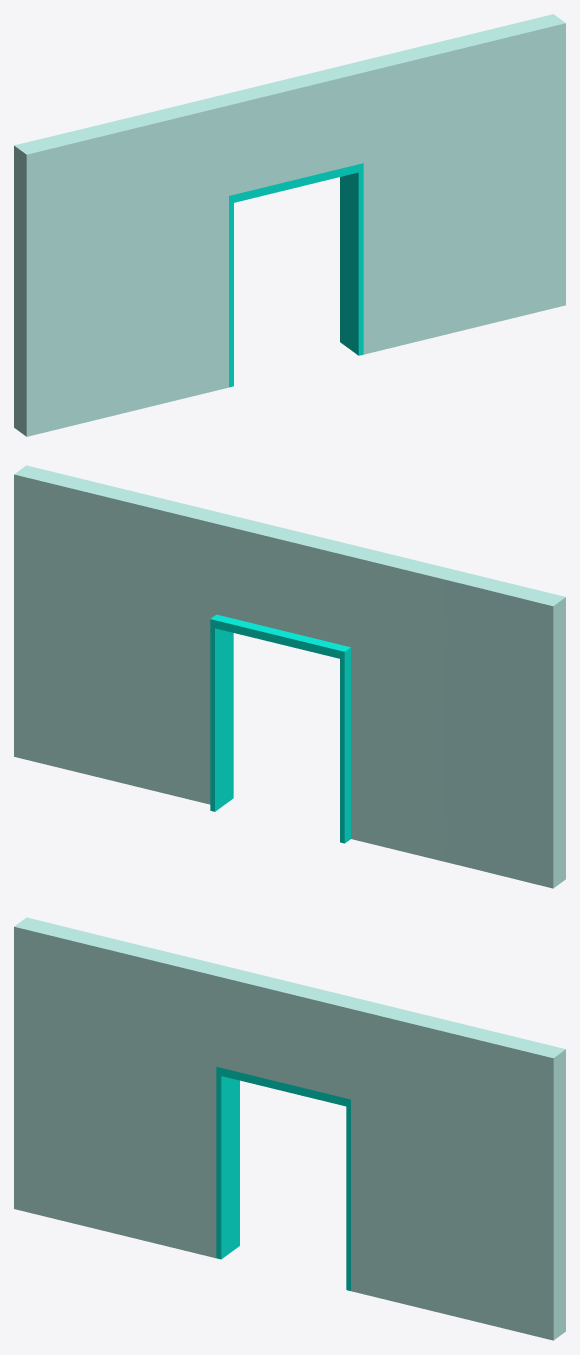
The model's file is BigRoomDoorVariation3.fbx.
3 renders of one model, top to bottom at view 1: azimuth 30°, elevation 25°; view 2: azimuth 150°, elevation 25°; view 3: azimuth 330°, elevation 25°, orthographic.
Parts seen in each view (by area): view 1: Wall, DoorFrame; view 2: Wall, DoorFrame; view 3: Wall, DoorFrame.
Part boxes in pixels (left/top/right/bottom): Wall: left=14, top=14, right=565, bottom=436; DoorFrame: left=229, top=163, right=363, bottom=387; Wall: left=14, top=465, right=565, bottom=888; DoorFrame: left=210, top=614, right=350, bottom=843; Wall: left=14, top=917, right=565, bottom=1340; DoorFrame: left=216, top=1066, right=350, bottom=1290.
Bounding box in the file's own units: 100 × 50 × 6.
